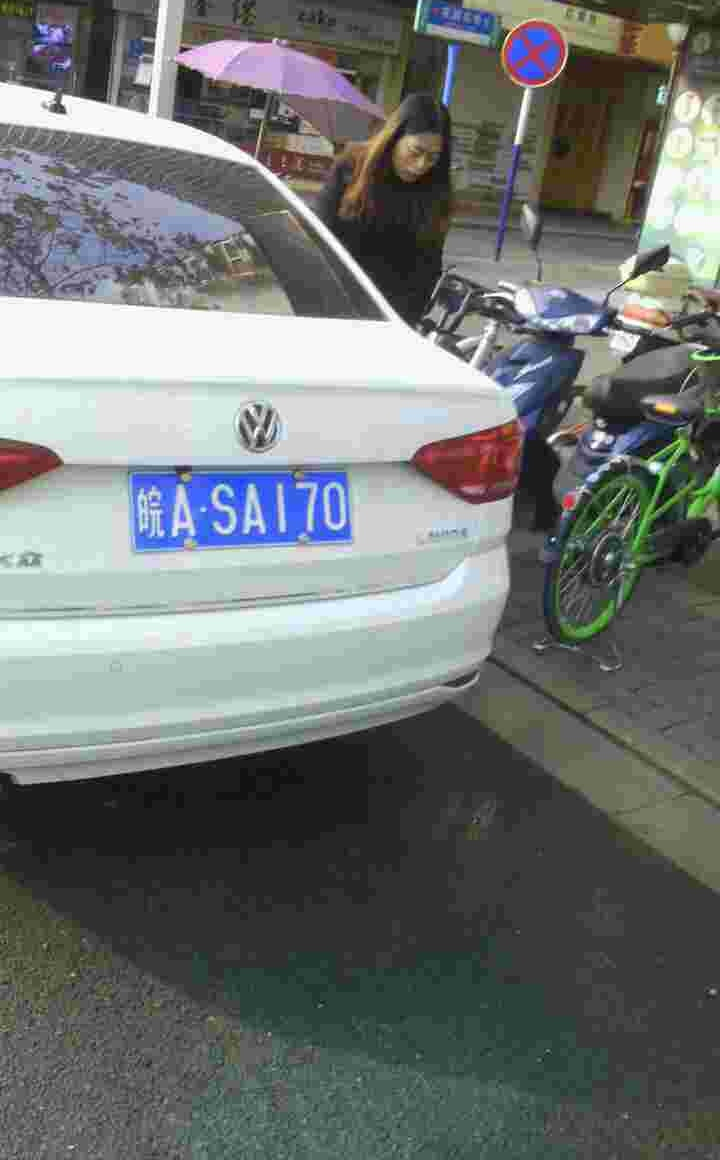plate: (137, 464, 360, 553)
